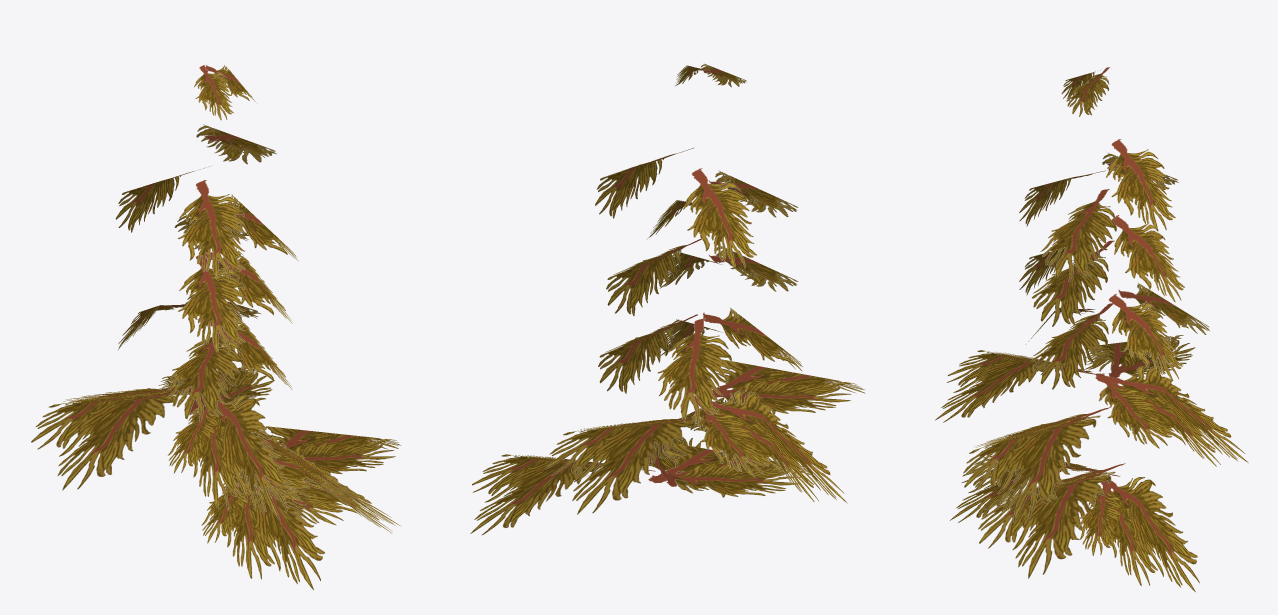
File: Tree_003.fbx
3 views of the same model, side by side, from view 1: azimuth 30°, elevation 25°; view 2: azimuth 150°, elevation 25°; view 3: azimuth 270°, elevation 25° (orthographic). The views are drawn at different scales.
Parts seen in each view (by area): view 1: polySurface8; view 2: polySurface8; view 3: polySurface8.
Part boxes in pixels (left/top/right/bottom): polySurface8: left=31, top=64, right=401, bottom=590; polySurface8: left=470, top=63, right=865, bottom=535; polySurface8: left=935, top=67, right=1248, bottom=592.
Bounding box in the file's own units: 410 × 577 × 340.
